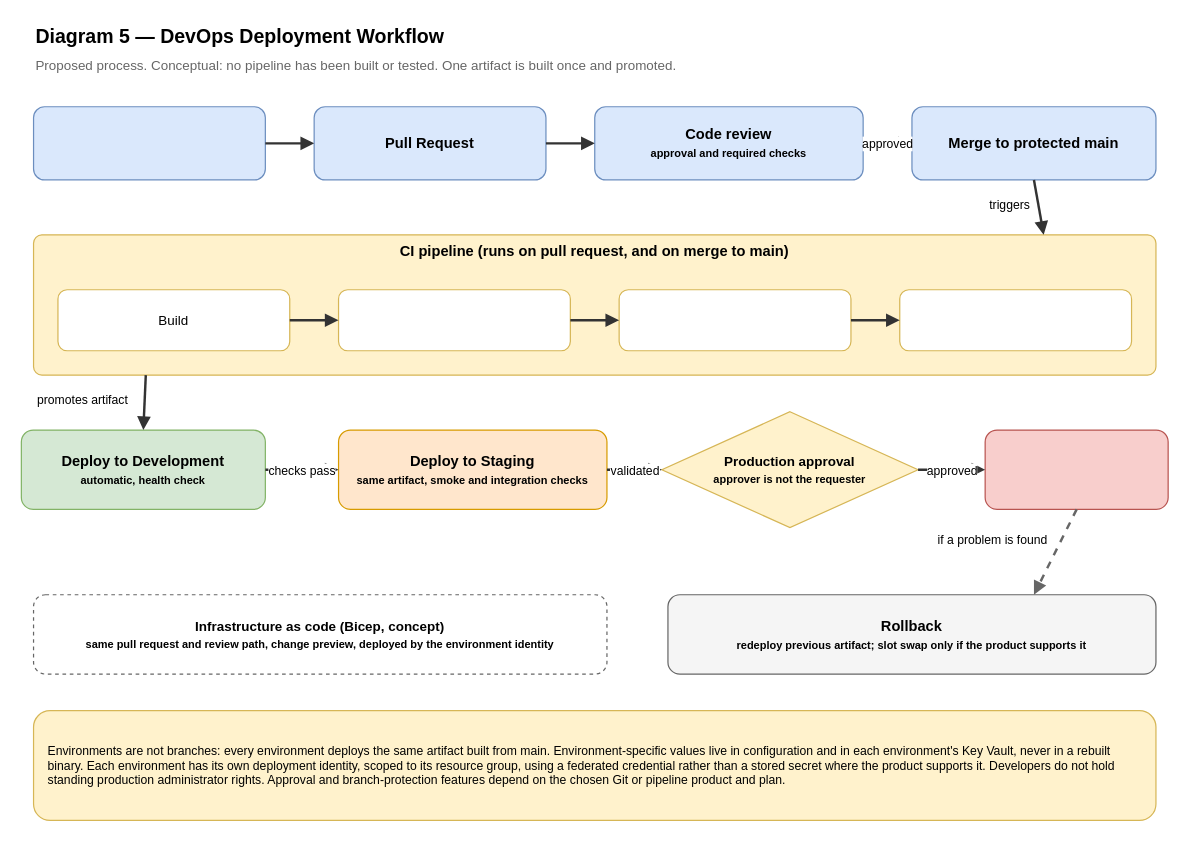
Some shapes in this 1190 by 842 pixel diagram are drawn without their labels. The shapes that lost their labels are listed below. From the top down, each one's centre as x and y in pixels, then its label:
At pixel 148 143: "Git short-lived branch".
At pixel 453 320: "Automated tests".
At pixel 734 320: "Security checks tooling not selected".
At pixel 1015 320: "Versioned artifact built once, immutable (main only)".
At pixel 1076 469: "Deploy to Production same artifact, scoped identity".
